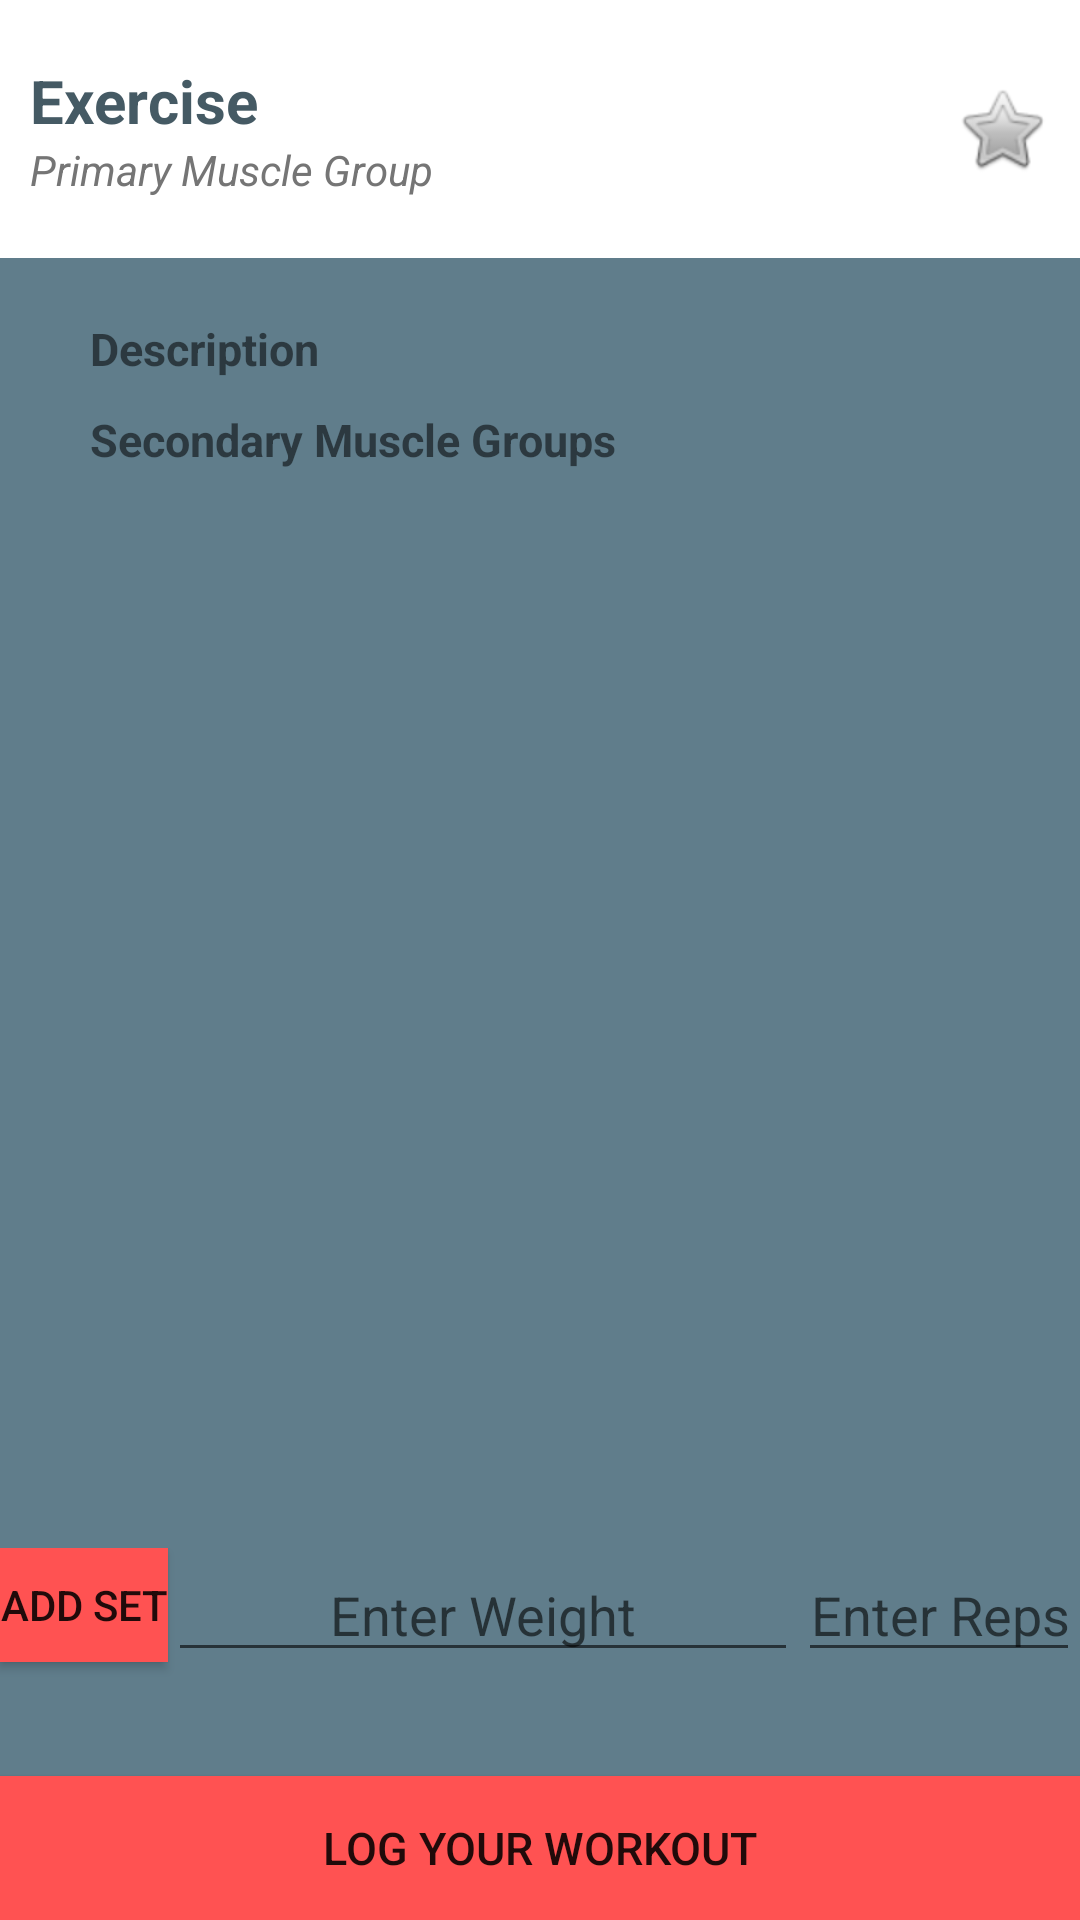

Point at icon controls on the screen. Image size 1080 x 1920, points as [x,y].
favorite: [1003,130]
